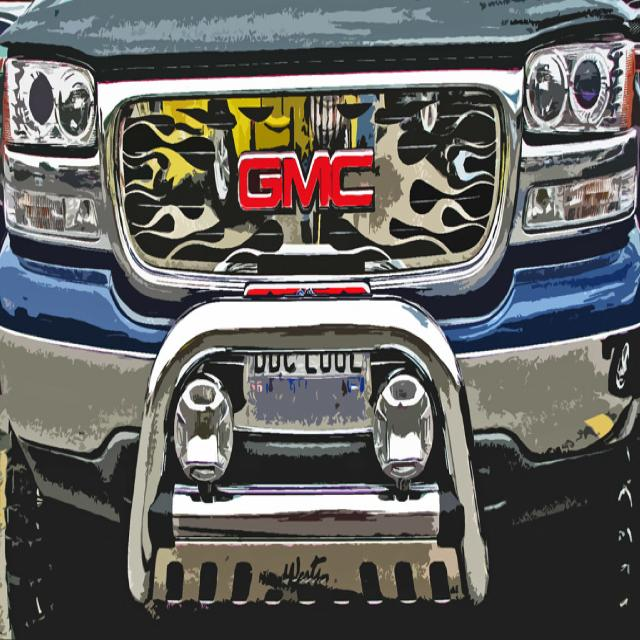car: (43, 34, 595, 638)
